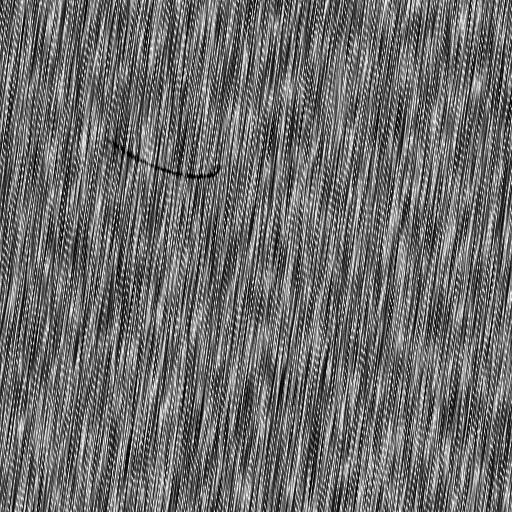DefectTypeC: (101, 134, 224, 182)
